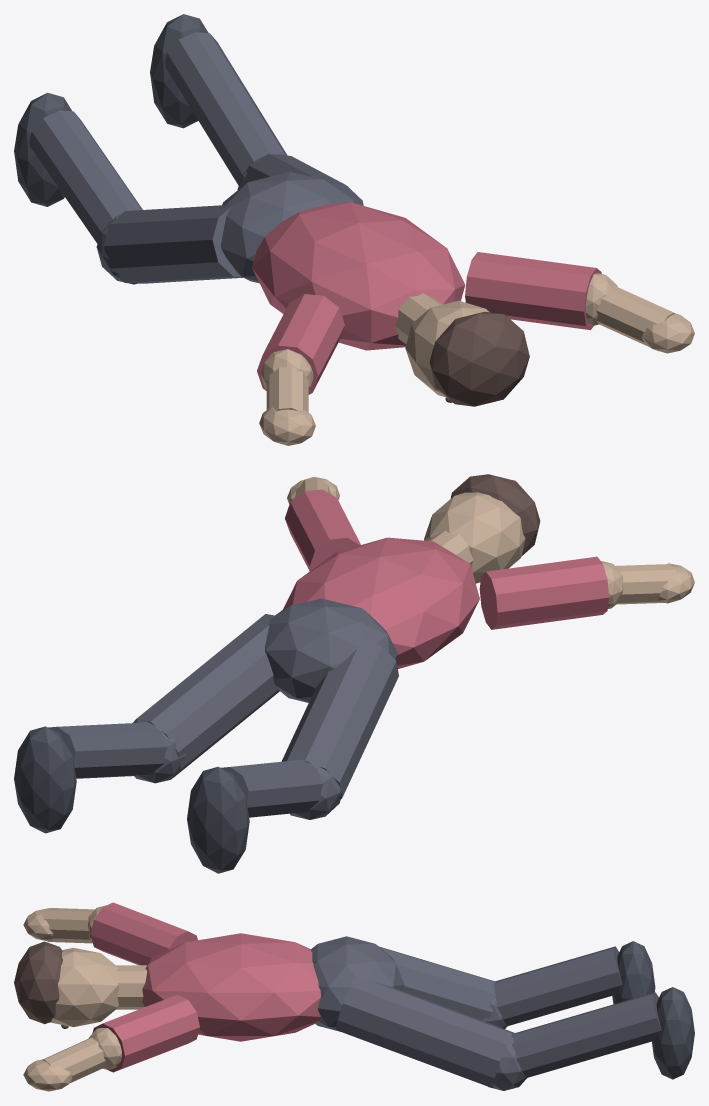
3 renders of one model, top to bottom at view 1: azimuth 30°, elevation 25°; view 2: azimuth 150°, elevation 25°; view 3: azimuth 270°, elevation 25°, orthographic. The views are drawn at different scales.
Visible parts, largest first — view 1: world; view 2: world; view 3: world.
Boxes of the visible parts, x1=… form: world: x1=14, y1=14, x2=694, y2=445; world: x1=14, y1=474, x2=694, y2=873; world: x1=14, y1=902, x2=694, y2=1091.
Bounding box in the file's own units: 1.17 × 0.3942 × 2.
